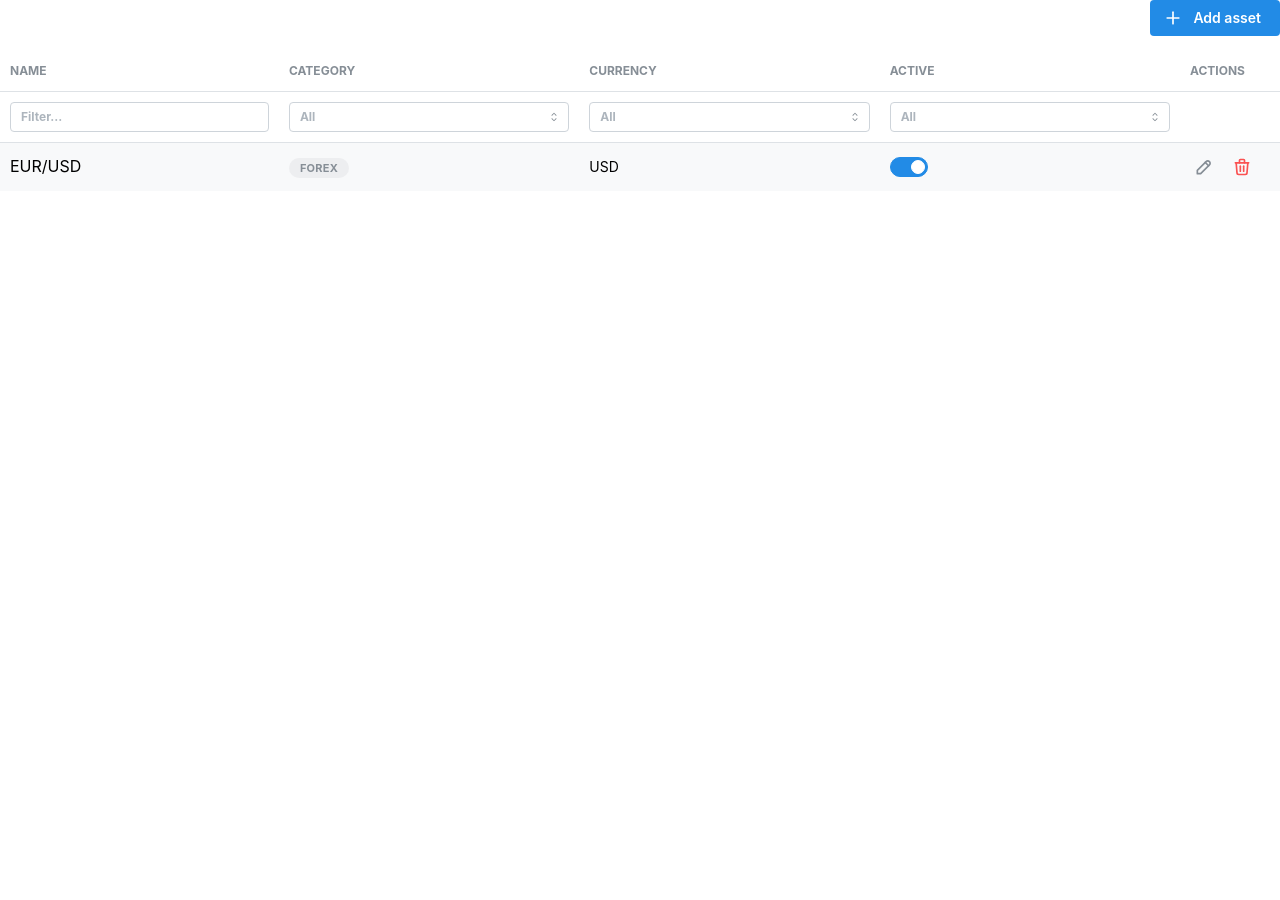
Test: AssetsTab › AssetModal — Massive ticker field › clears a selected ticker when the category changes
Expected: the text "EUR/USD" is shown, top-left (10, 156), bottom-right (81, 176)
Click the button named "Edit EUR/USD".
click(1204, 167)  # box top-left (1190, 153), bottom-right (1218, 181)
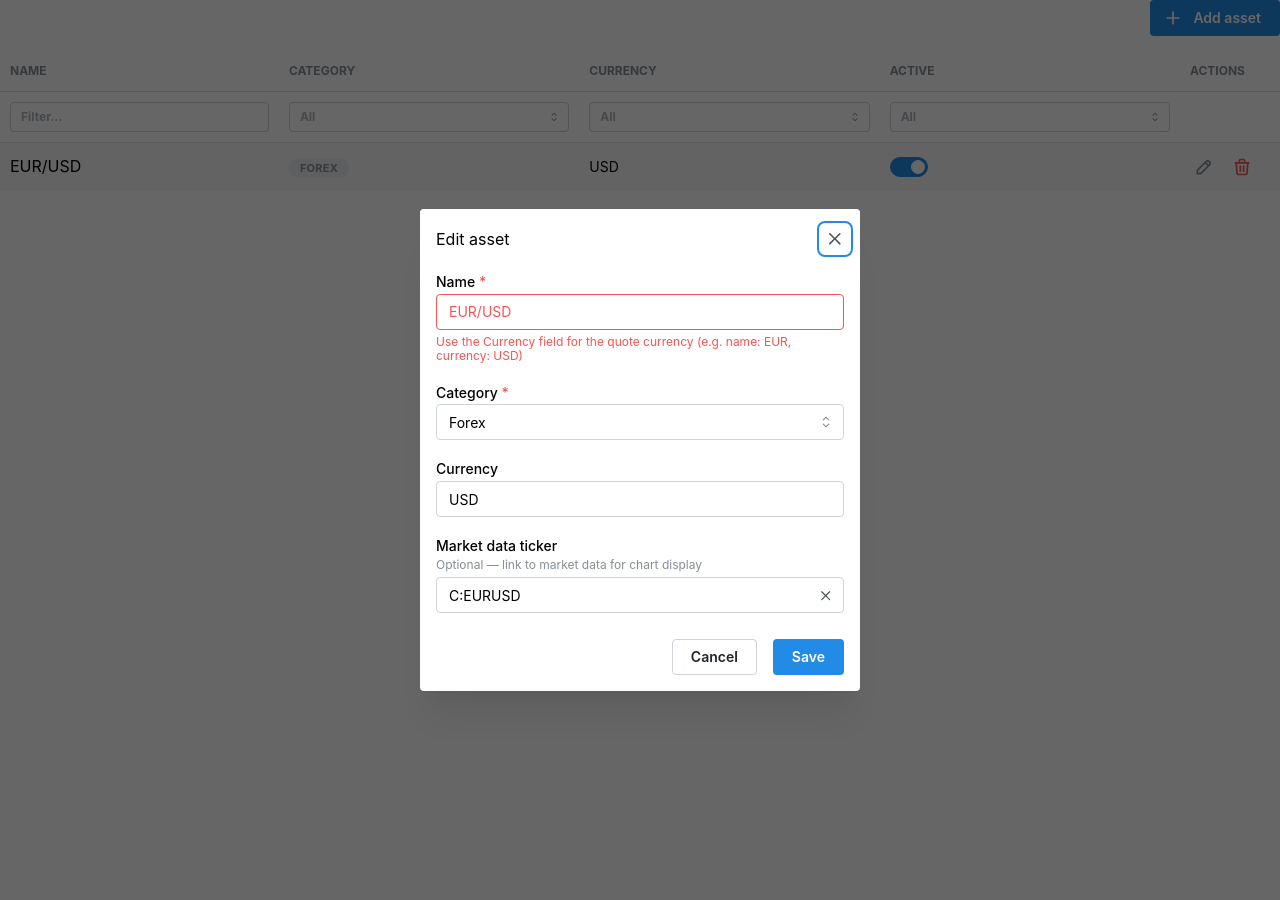
Expected: the field labelled "Market data ticker" holds "C:EURUSD", top-left (436, 577), bottom-right (844, 613)
Click the field with placeholder "Pick a category".
click(640, 422)  # box top-left (436, 404), bottom-right (844, 440)
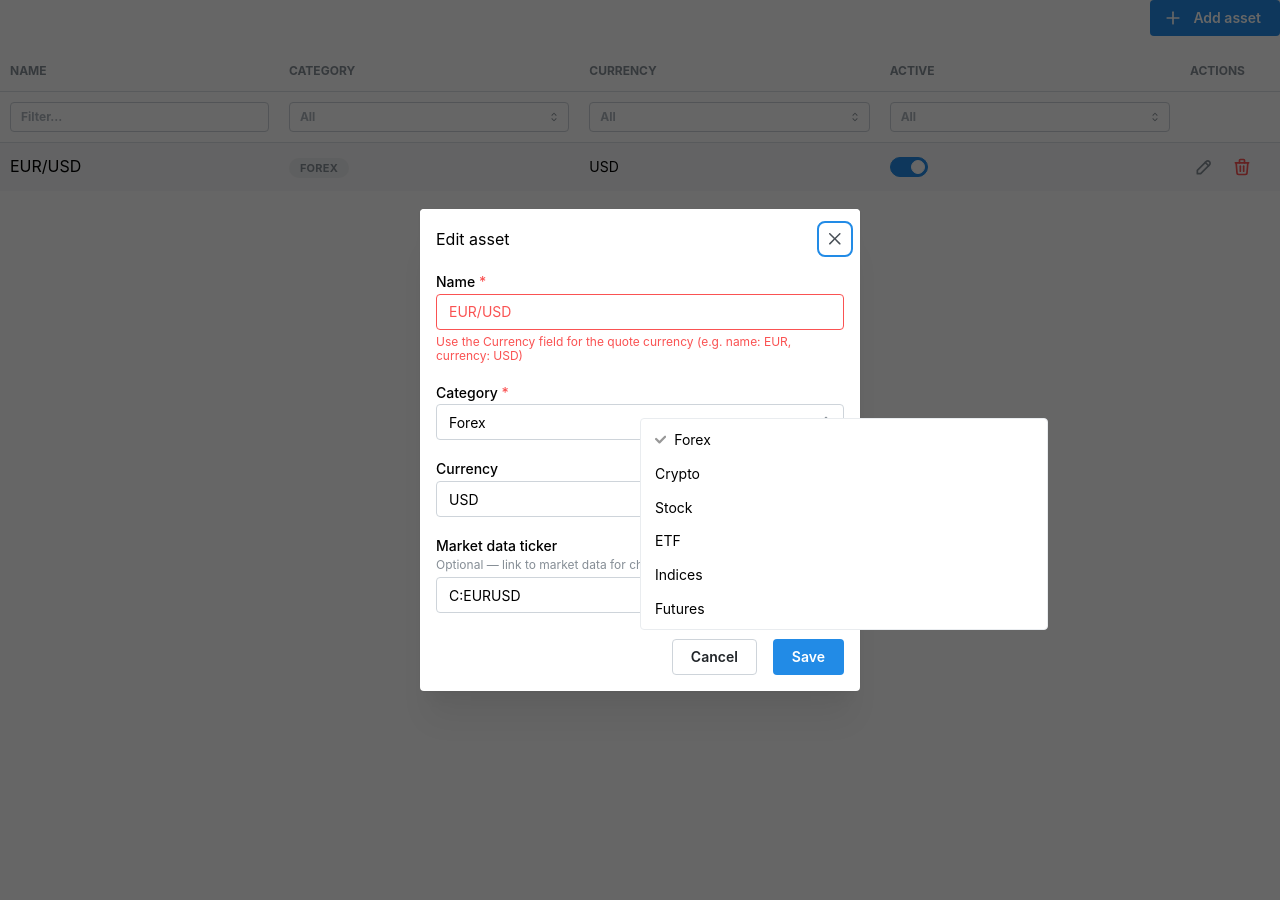
Click the option "Crypto".
click(678, 473)  # box top-left (655, 465), bottom-right (700, 482)
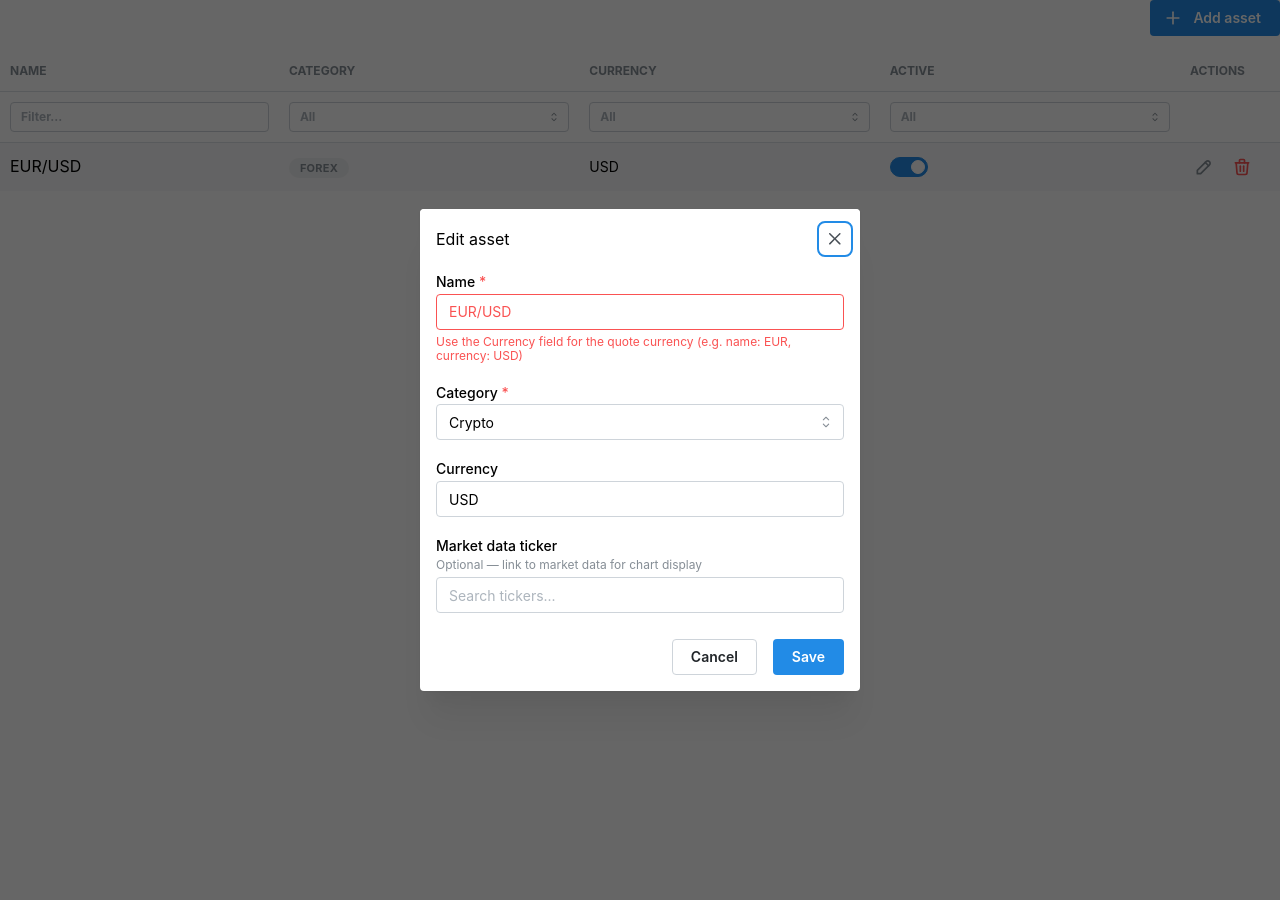
Expected: the field labelled "Market data ticker" is enabled, top-left (436, 577), bottom-right (844, 613)
Expected: the field labelled "Market data ticker" is empty, top-left (436, 577), bottom-right (844, 613)
